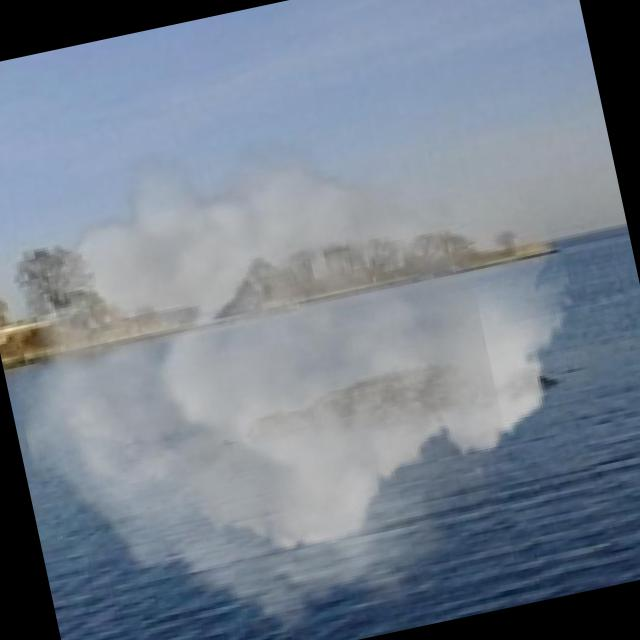Smoke: (0, 72, 632, 640)
